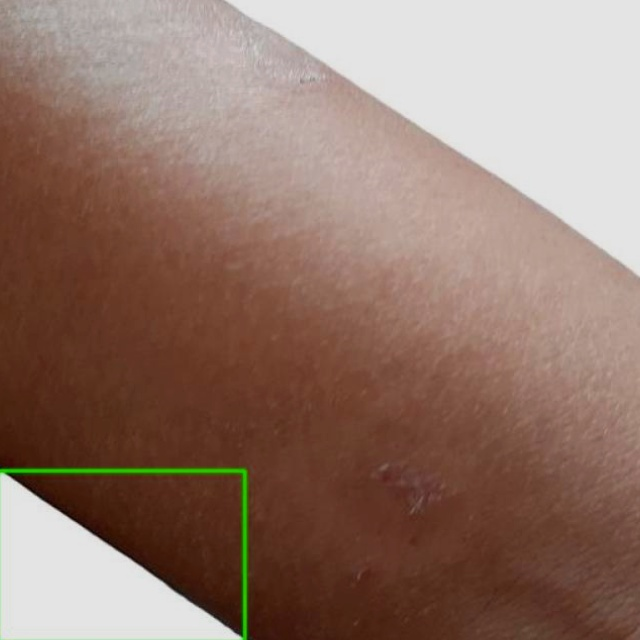Tinea Corporis: (0, 470, 244, 639)
